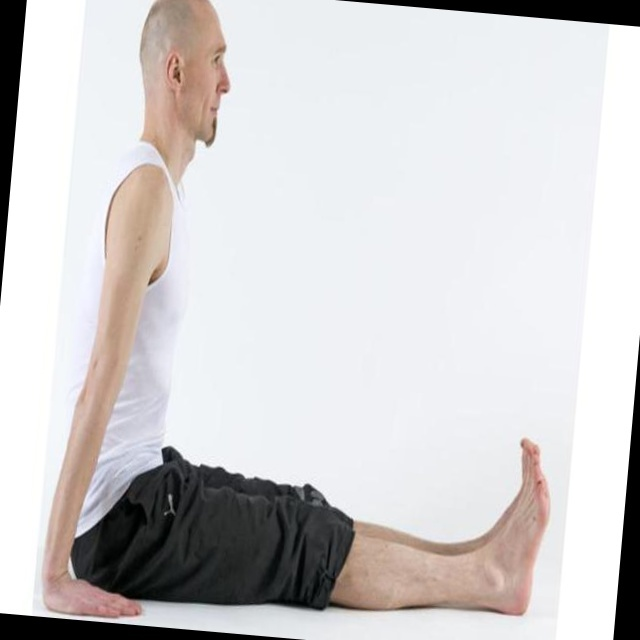Staff_Pose: (43, 4, 553, 618)
